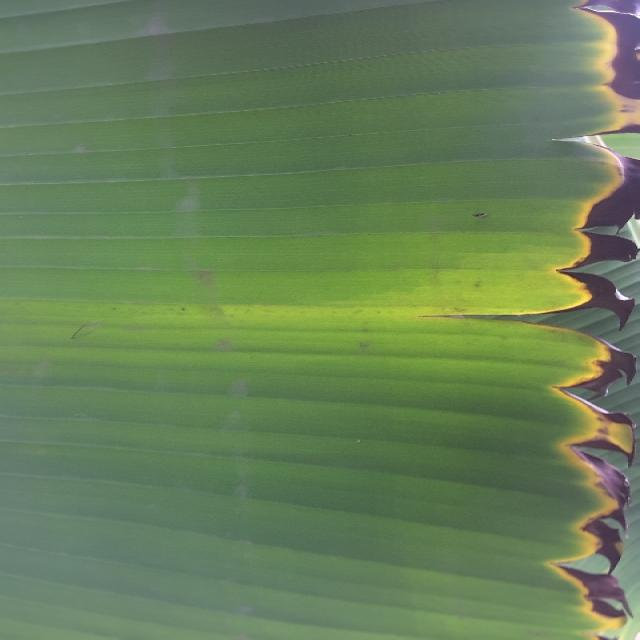Cordana: (203, 0, 640, 640)
